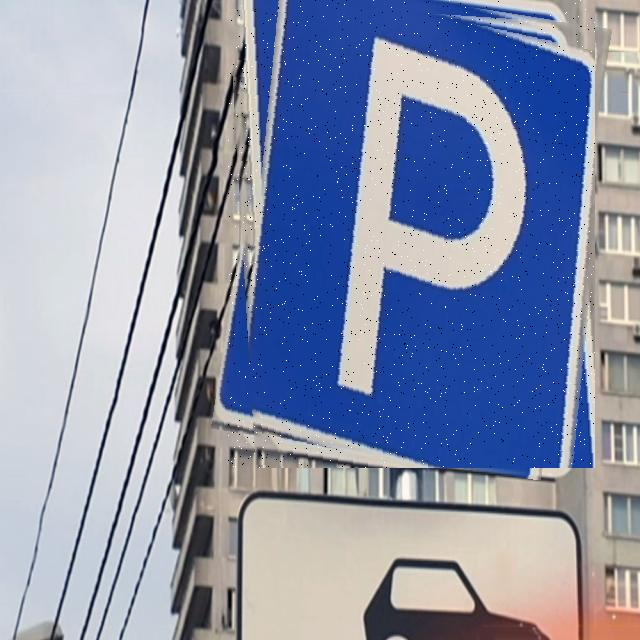parking: (228, 0, 595, 468)
